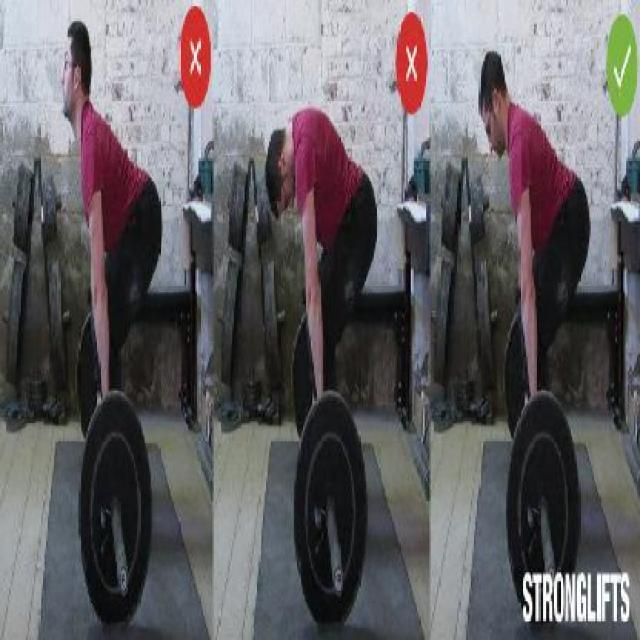barbell: (76, 379, 162, 640), (293, 383, 371, 637)
